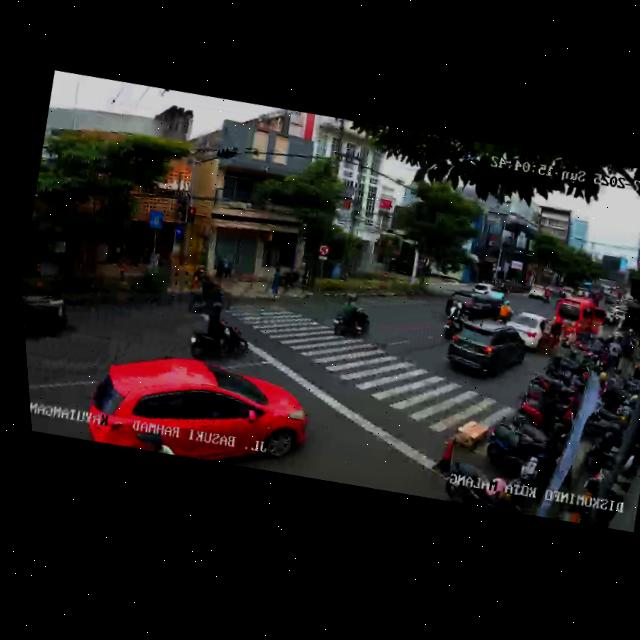car: (75, 330, 319, 488), (438, 311, 533, 390), (20, 271, 80, 353), (552, 294, 614, 356), (442, 286, 514, 330), (498, 306, 552, 354), (469, 278, 509, 300), (525, 282, 548, 303)
motorcycle: (178, 299, 255, 369), (325, 292, 375, 347), (438, 293, 468, 342)
